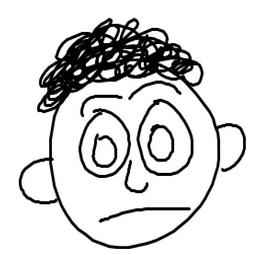ear: (9, 154, 64, 210), (220, 117, 253, 176)
eye: (135, 97, 196, 181), (76, 107, 131, 178)
eyebrow: (74, 91, 123, 117), (124, 82, 184, 103)
line_unsmiling_mouth: (97, 203, 193, 226)
nose: (124, 160, 151, 197)
